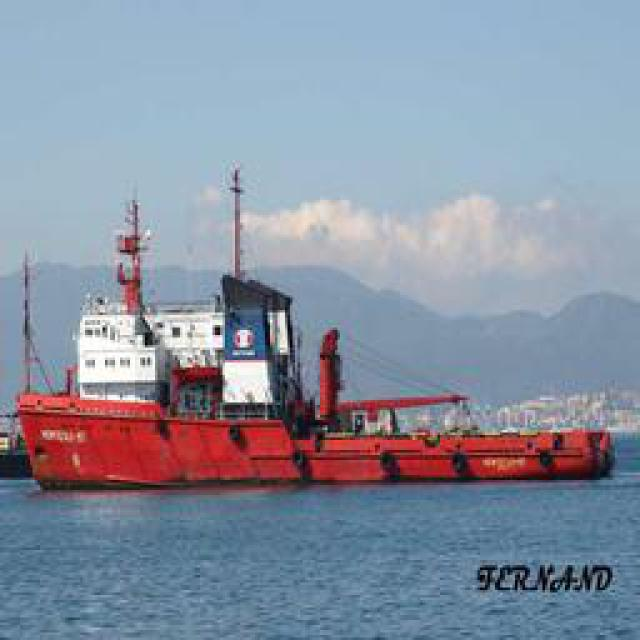Ship: (14, 211, 607, 491)
